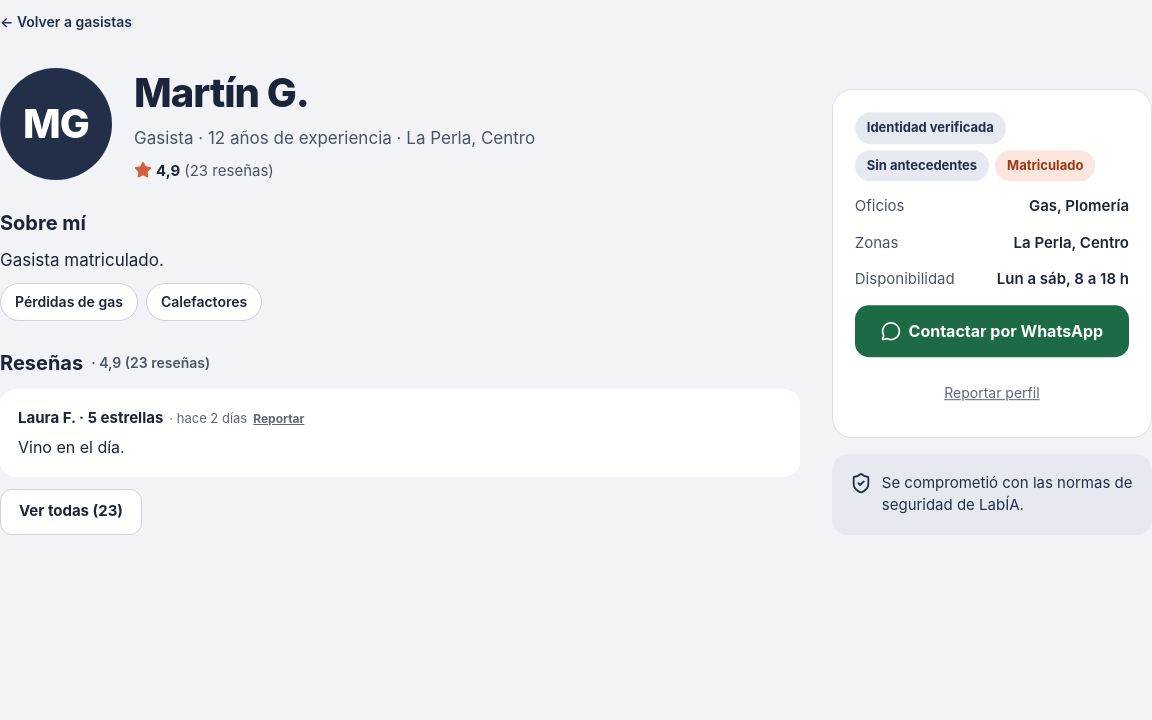
Scenario: PerfilProfesional › el cliente abre la hoja "Antes de contactar" con los cuatro consejos
Click the button "Contactar por WhatsApp": {"x": 992, "y": 331} left=855, top=305, right=1129, bottom=357
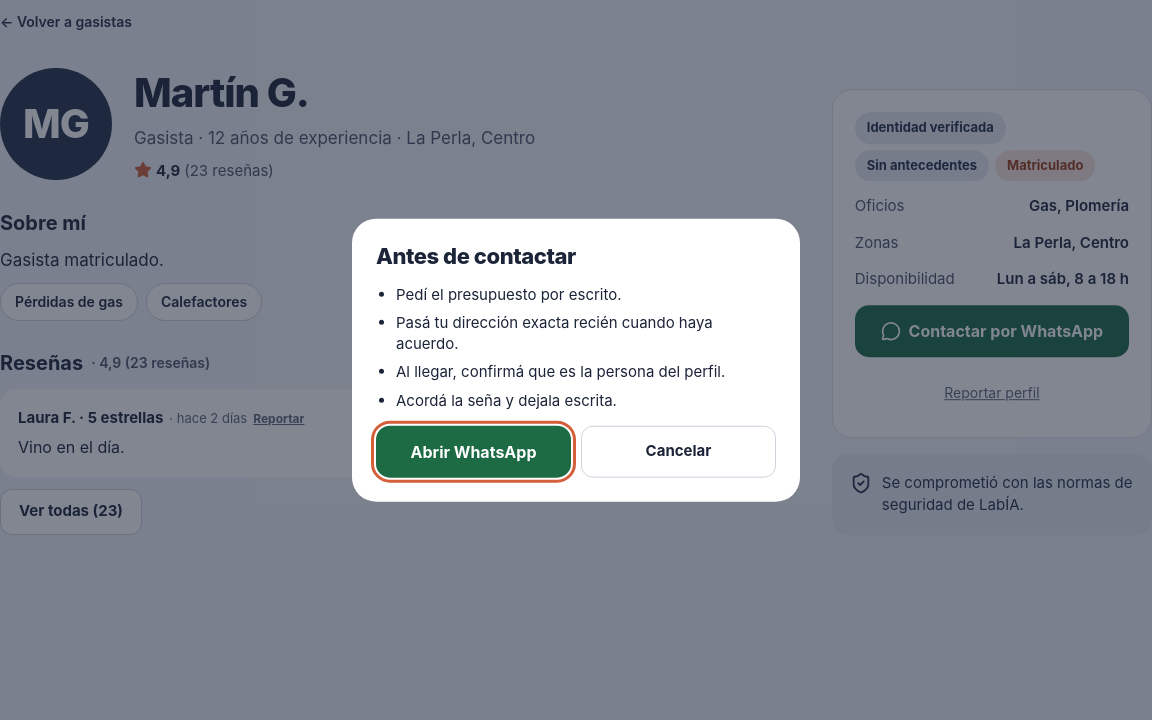
Expected: the button "Abrir WhatsApp" is shown, left=376, top=425, right=571, bottom=477
Expected: the button "Cancelar" is shown, left=581, top=425, right=776, bottom=477
